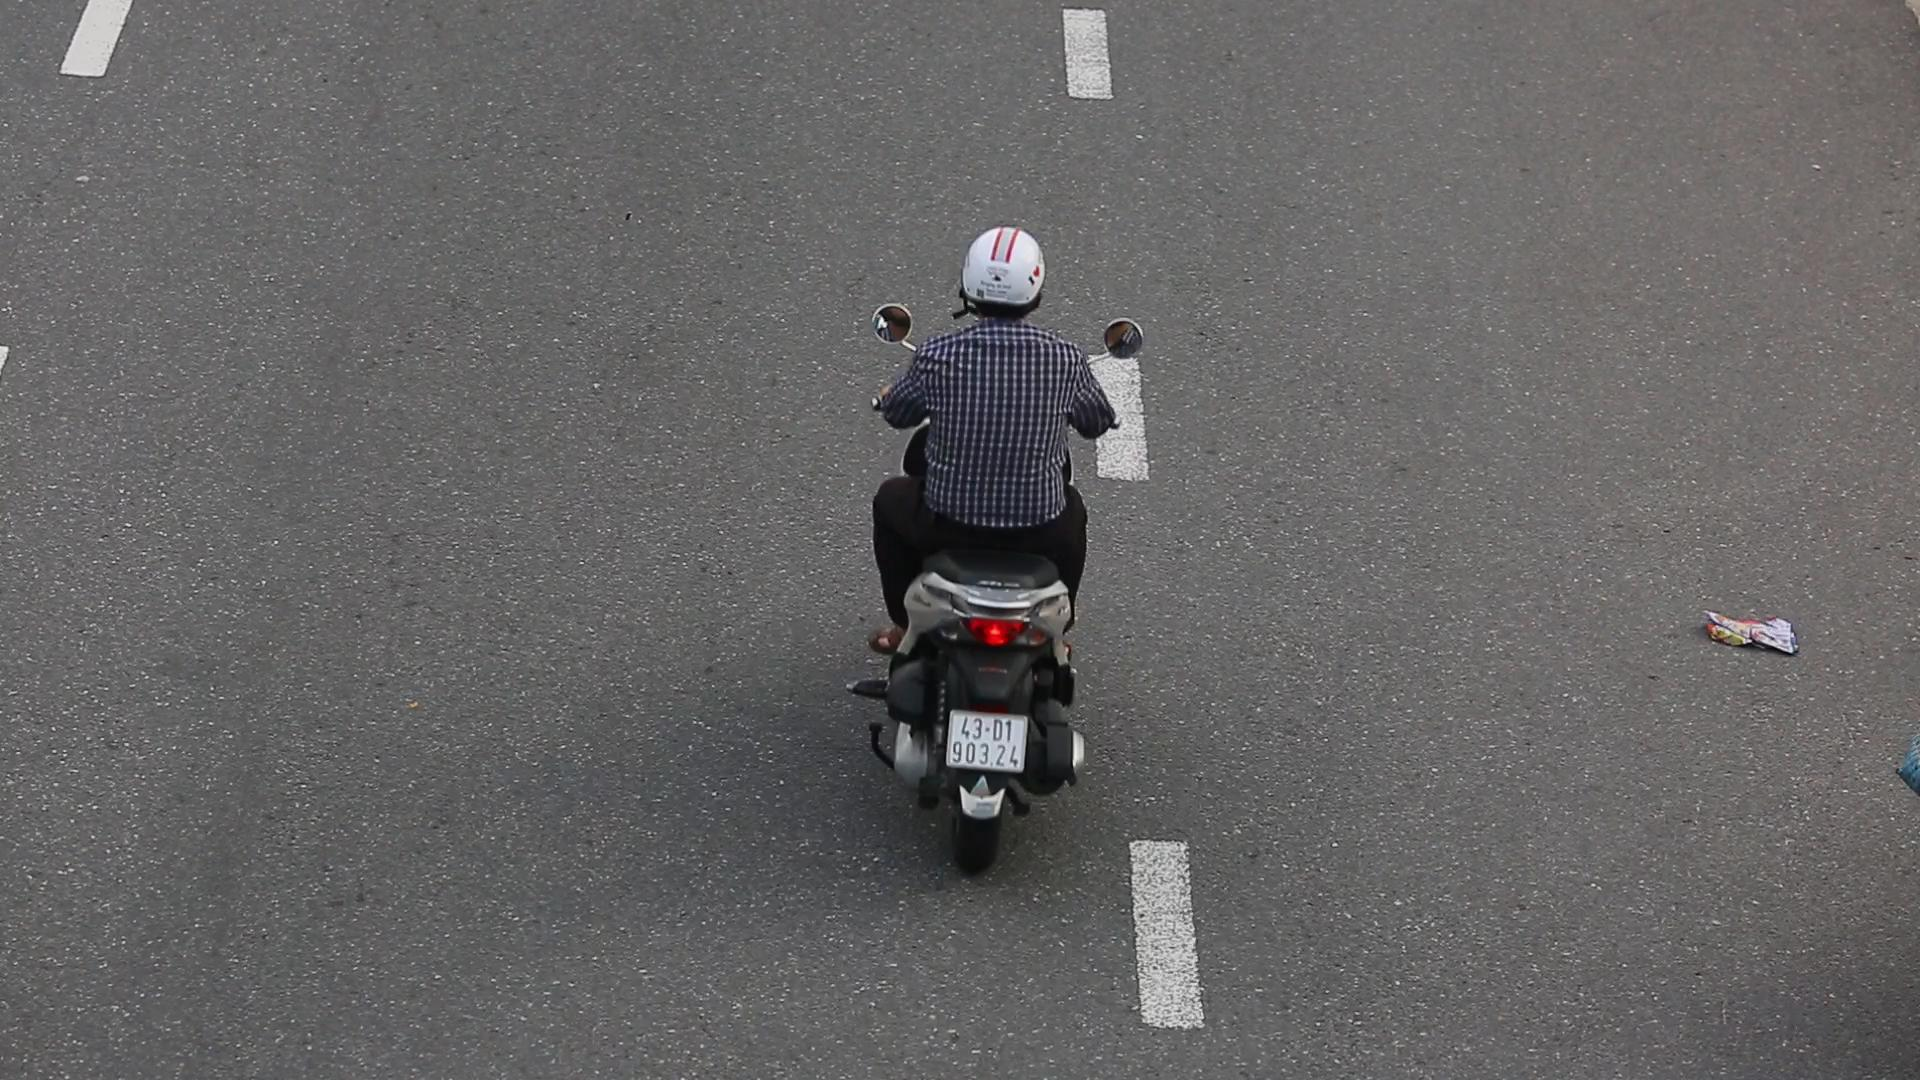motobike: (844, 202, 1151, 886)
